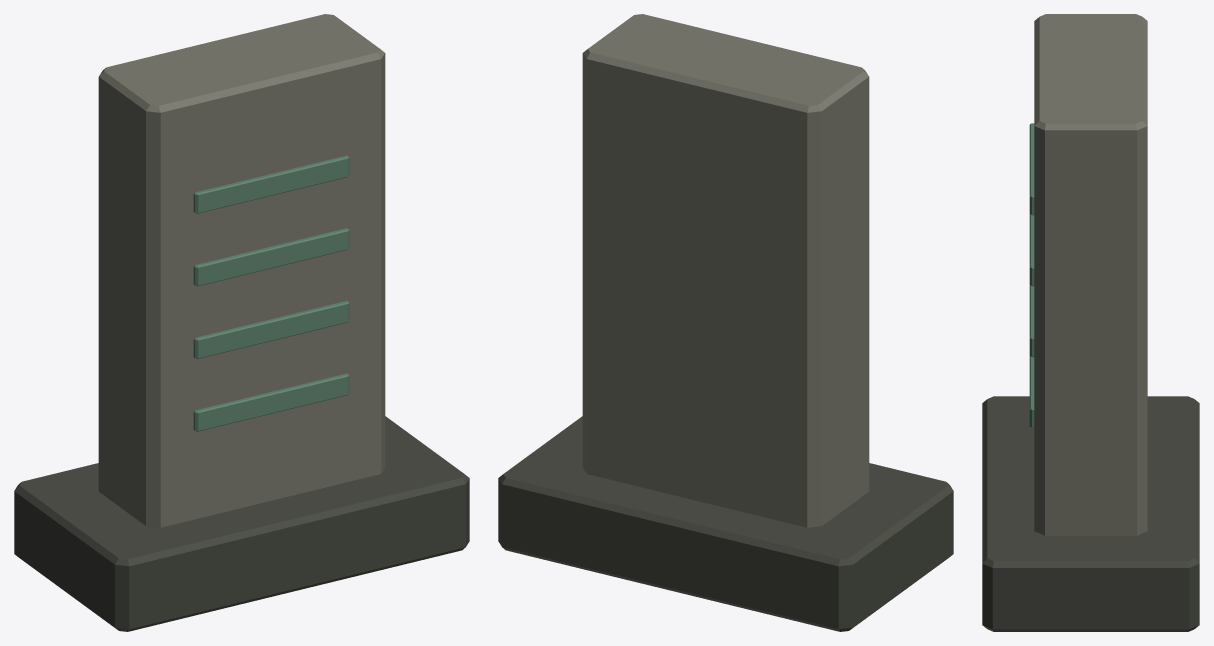
File: carved-tablet.glb
3 renders of one model, left to right at view 1: azimuth 30°, elevation 25°; view 2: azimuth 150°, elevation 25°; view 3: azimuth 270°, elevation 25°, orthographic. The views are drawn at different scales.
Visible parts, largest first — view 1: carved-tablet__body; view 2: carved-tablet__body; view 3: carved-tablet__body.
Boxes of the visible parts, x1=… form: carved-tablet__body: x1=14, y1=14, x2=469, y2=631; carved-tablet__body: x1=498, y1=14, x2=953, y2=631; carved-tablet__body: x1=982, y1=14, x2=1199, y2=631.
Bounding box in the file's own units: 0.46 × 0.61 × 0.25.
